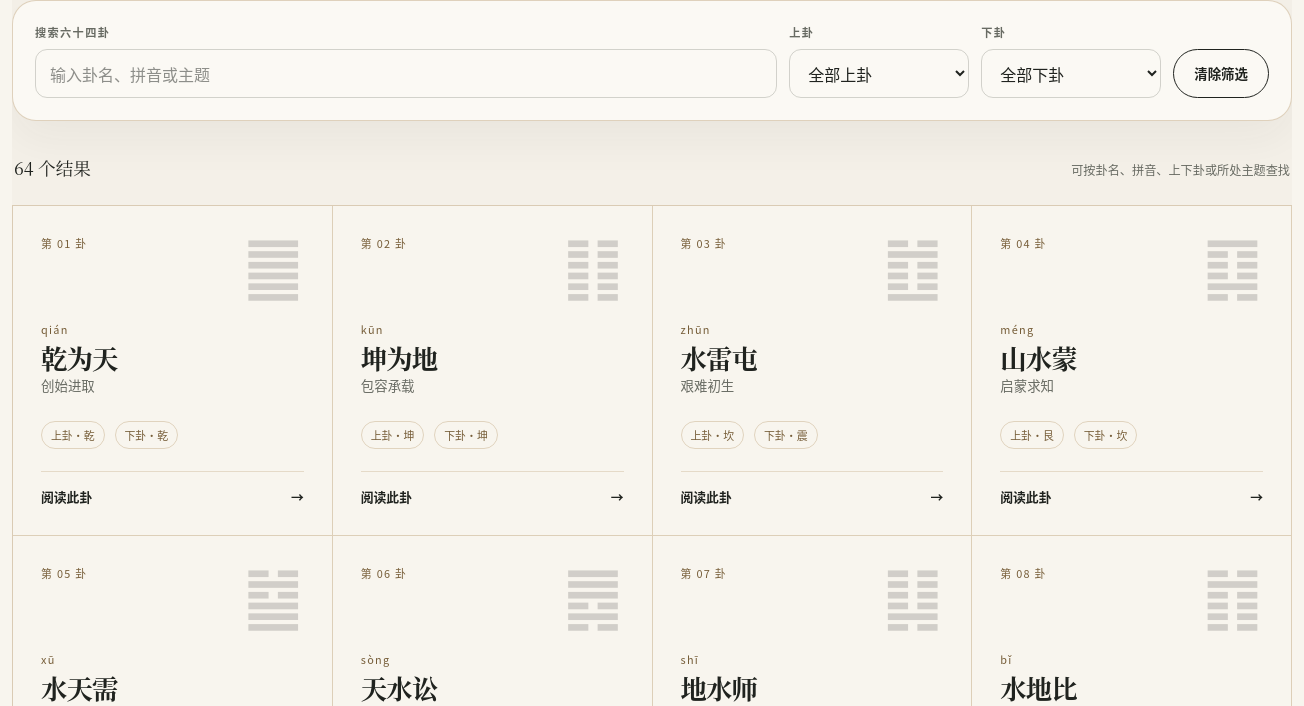
Test case: HexagramBrowser › filters every visible card by upper trigram and clears back to 64
Select "坎" in the dropdown labelled "上卦" at {"x": 879, "y": 74}, box x1=789 y1=49 x2=969 y2=98
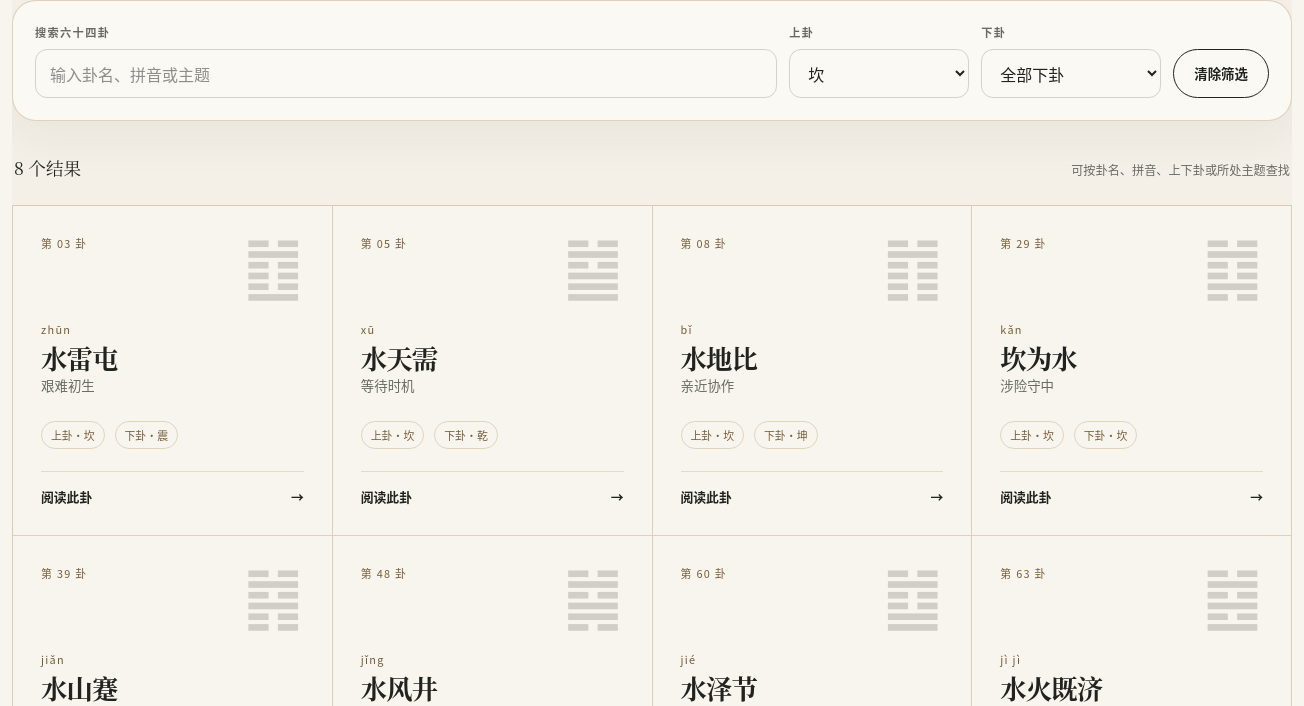
expect the text "上卦·坎" below "艰难初生" is shown: met, box x1=41 y1=421 x2=104 y2=449
expect the number of elements with test id "hexagram-card" is 8: met
Click the button "清除筛选" at {"x": 1221, "y": 74}, box x1=1173 y1=49 x2=1269 y2=98
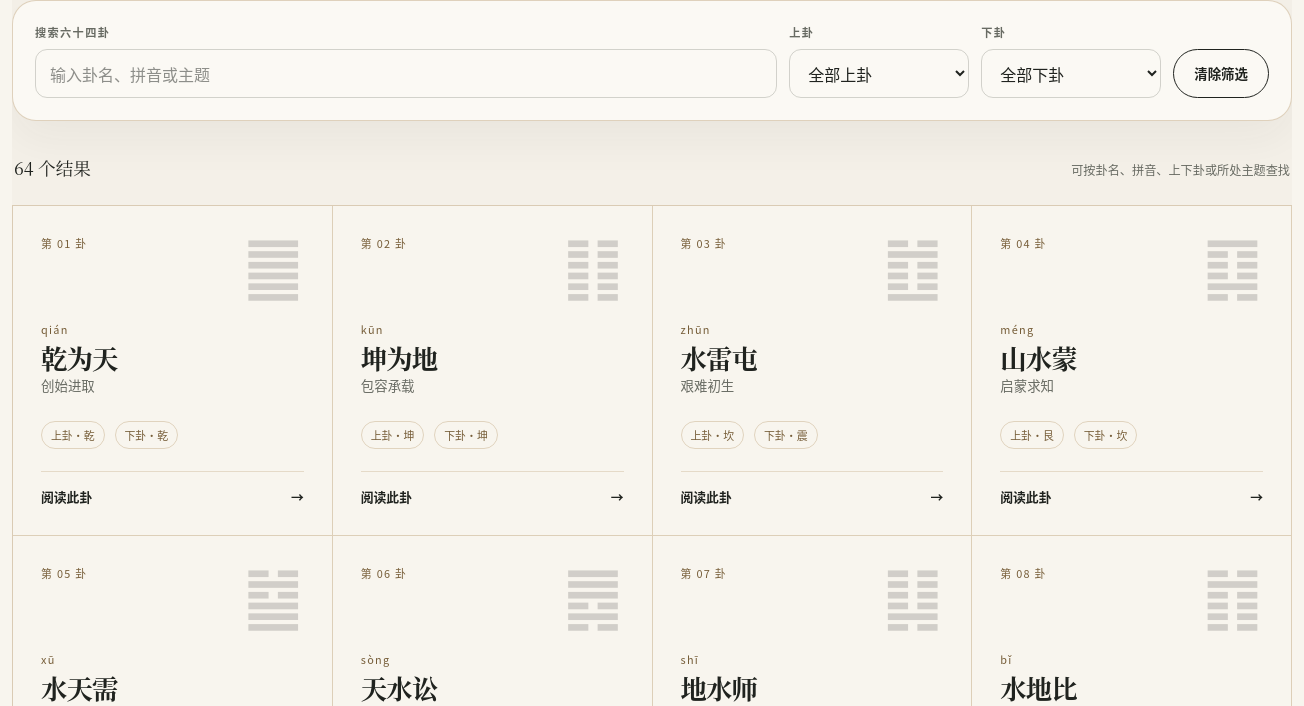
expect the text "64 个结果" is shown: met, box x1=14 y1=153 x2=91 y2=183
